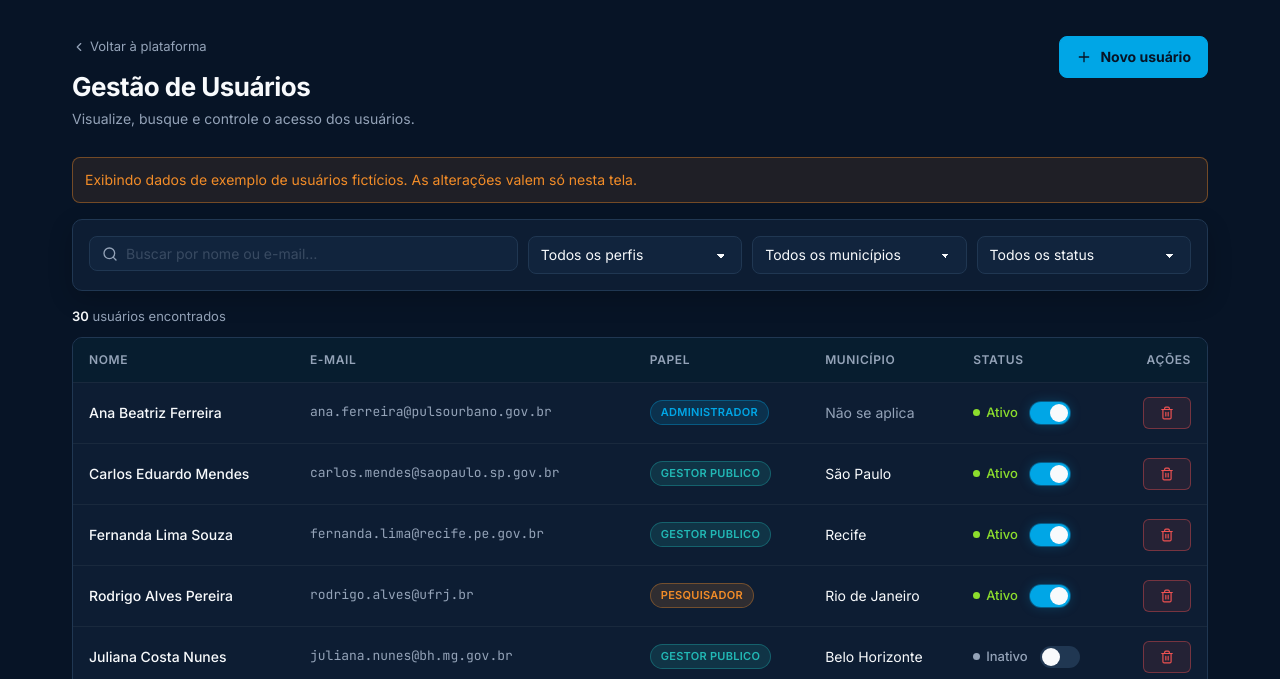
Test: Gestão de Usuários › combina perfil, município e status e limpa os filtros
Select "GESTOR PUBLICO" in the dropdown named "Perfil" at (635, 255), box [528, 236, 742, 274]
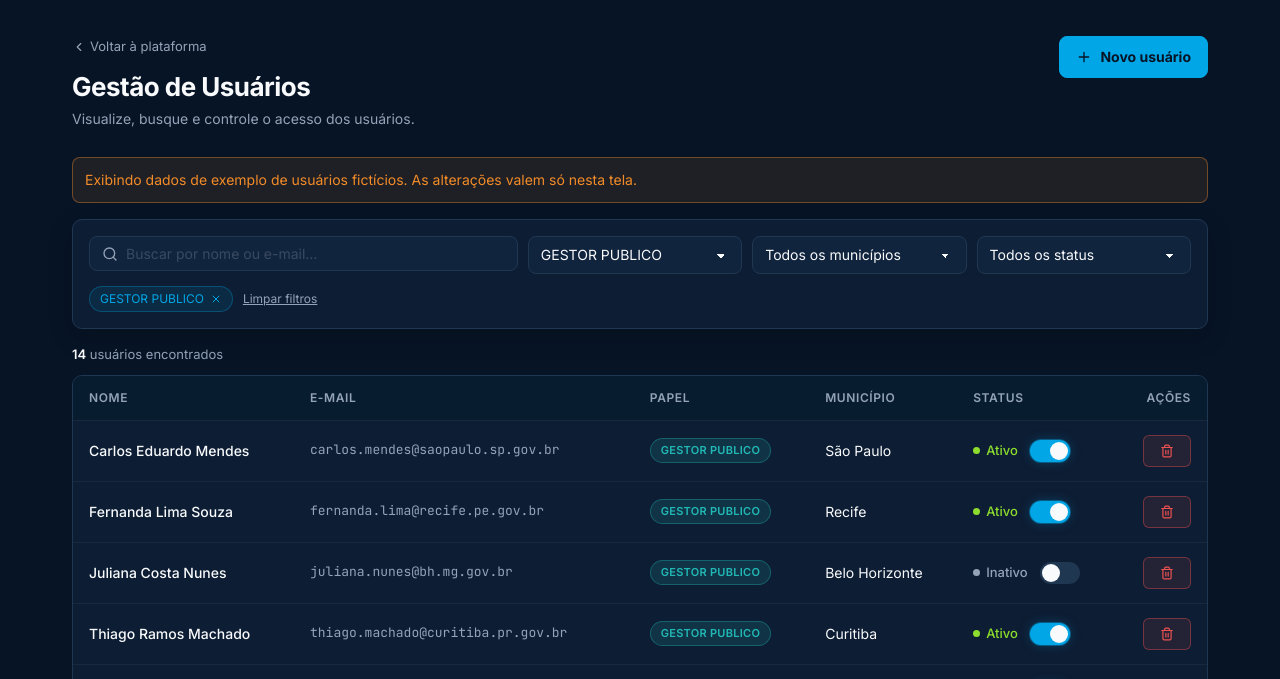
Select "São Paulo" in the dropdown named "Município" at (859, 255), box [752, 236, 967, 274]
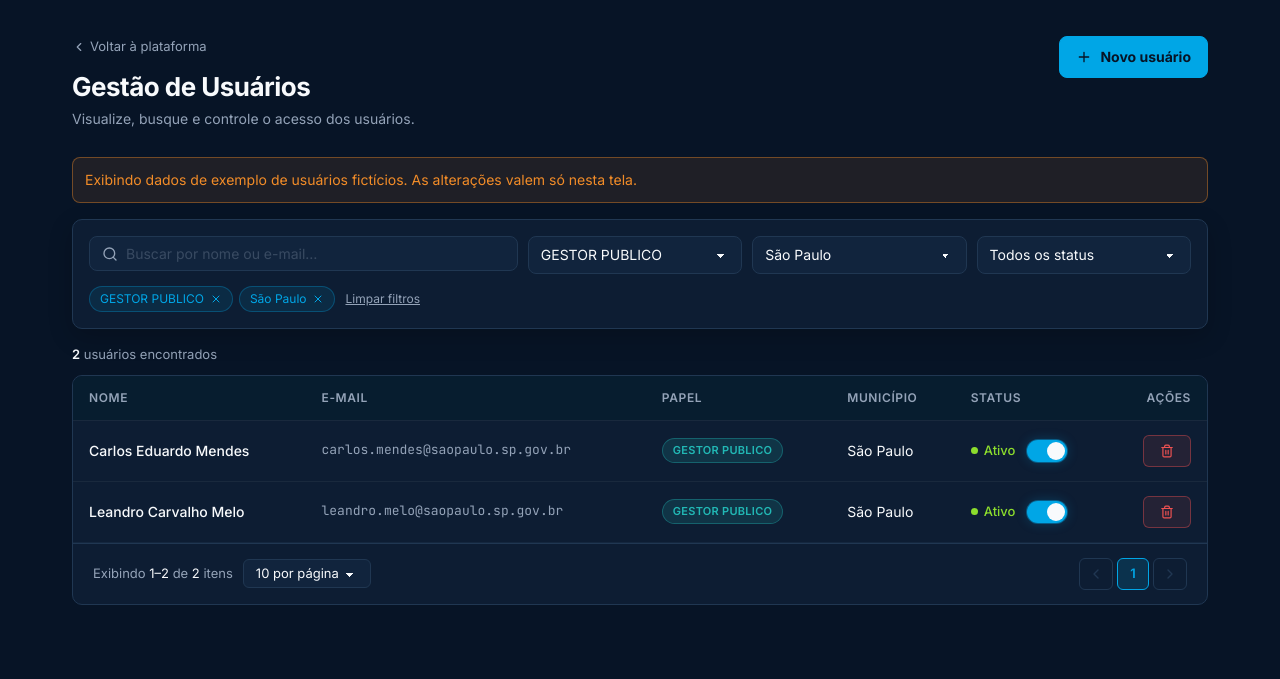
Select "Ativo" in the dropdown named "Status" at (1084, 255), box [977, 236, 1191, 274]
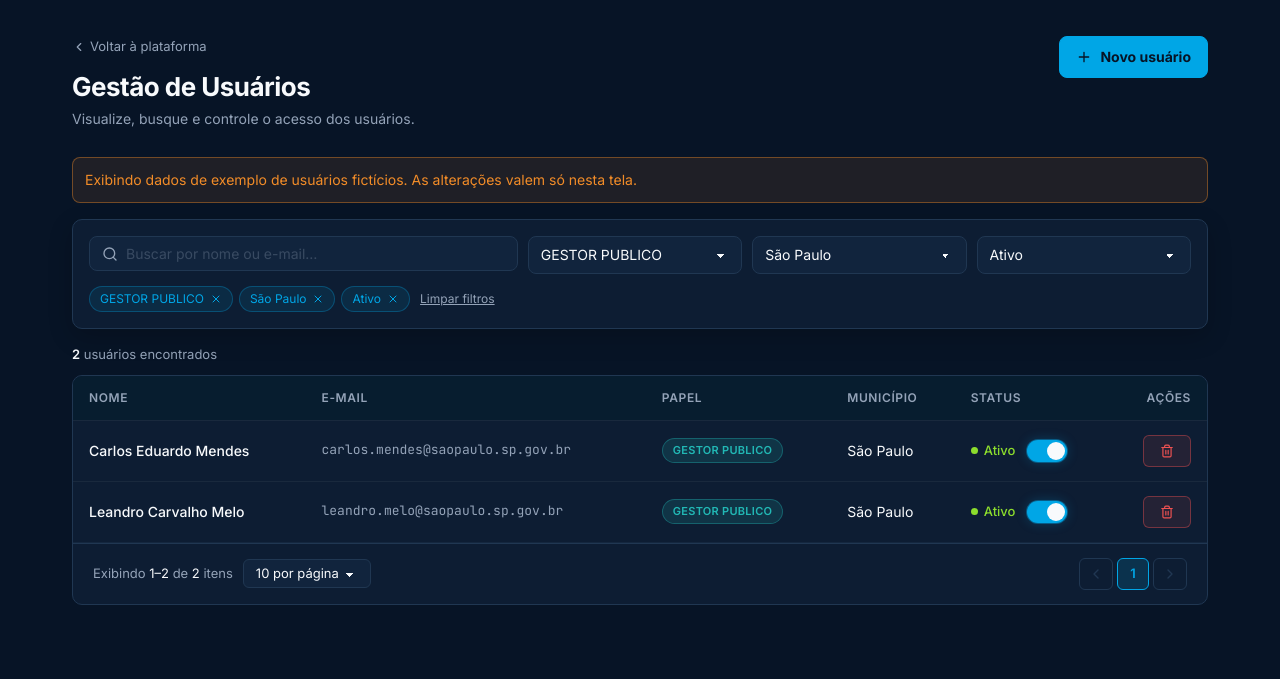
Expected: the text "Ana Beatriz Ferreira" is not shown
Expected: the text "Carlos Eduardo Mendes" is shown 2 times
Expected: the text "Leandro Carvalho Melo" is shown 2 times
Click the button "Limpar filtros" at (457, 299), box [416, 291, 499, 307]
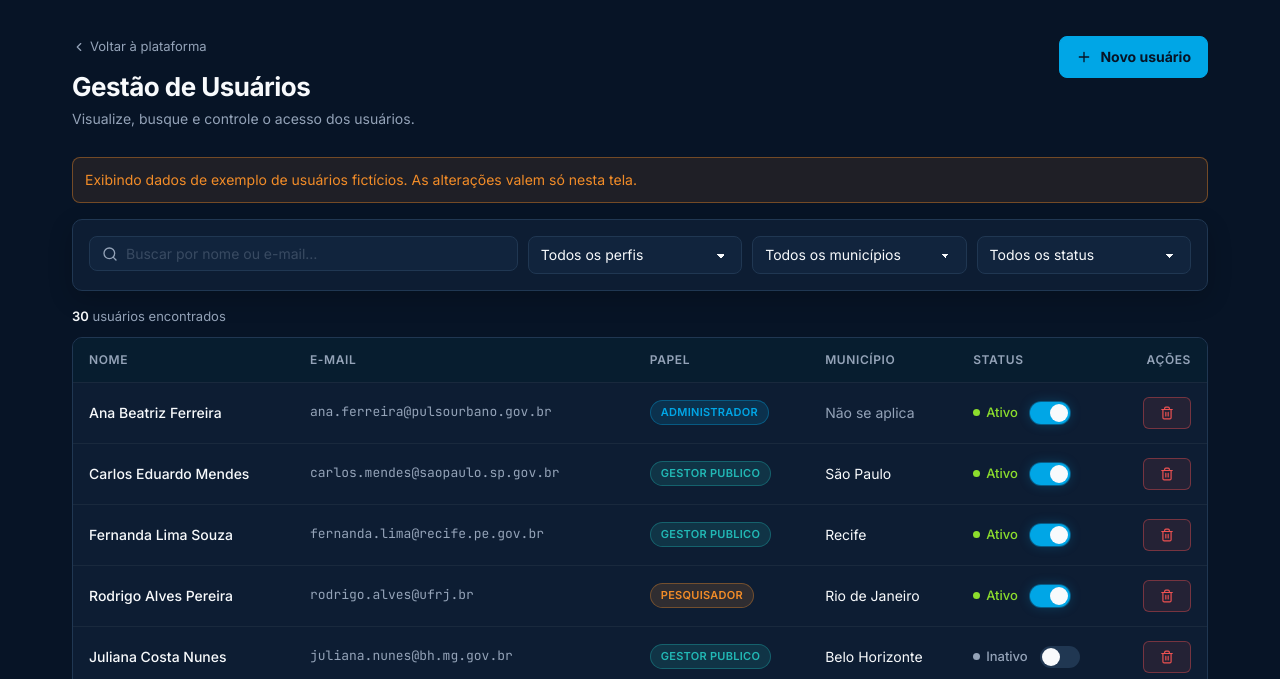
Expected: the text "Ana Beatriz Ferreira" is shown 2 times
